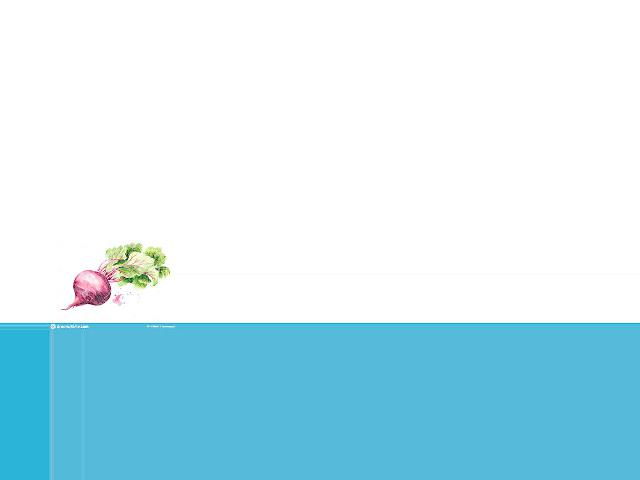beet: (61, 243, 171, 311)
